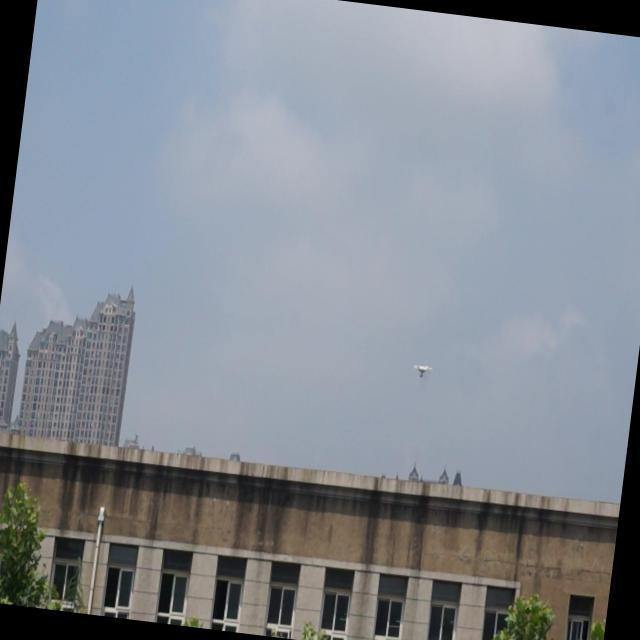drone: (409, 357, 435, 383)
